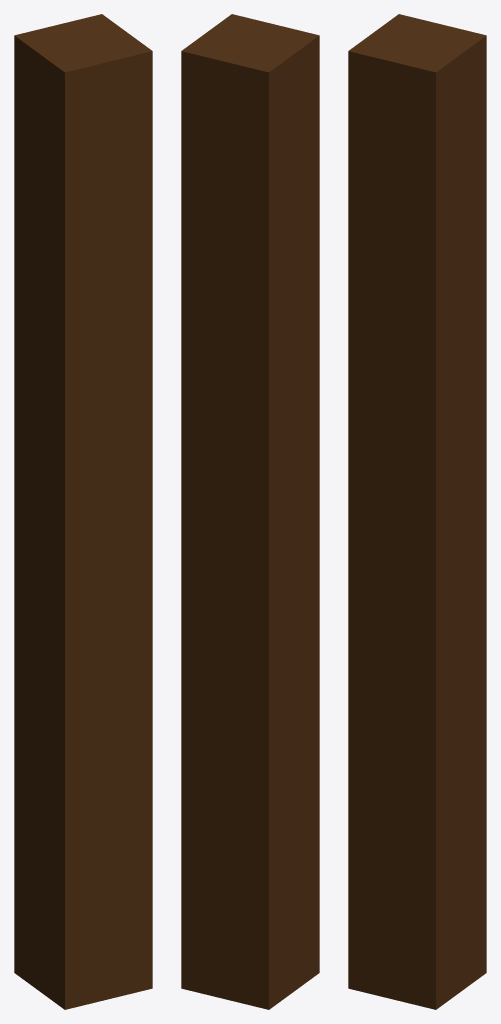
The model's file is staender_2m.glb.
3 renders of one model, left to right at view 1: azimuth 30°, elevation 25°; view 2: azimuth 150°, elevation 25°; view 3: azimuth 330°, elevation 25°, orthographic.
Parts seen in each view (by area): view 1: staender_2m; view 2: staender_2m; view 3: staender_2m.
Part boxes in pixels (left/top/right/bottom): staender_2m: left=14, top=14, right=152, bottom=1009; staender_2m: left=181, top=14, right=319, bottom=1009; staender_2m: left=348, top=14, right=486, bottom=1009.
Size of the model in its own units: 0.196 by 2 by 0.196.
